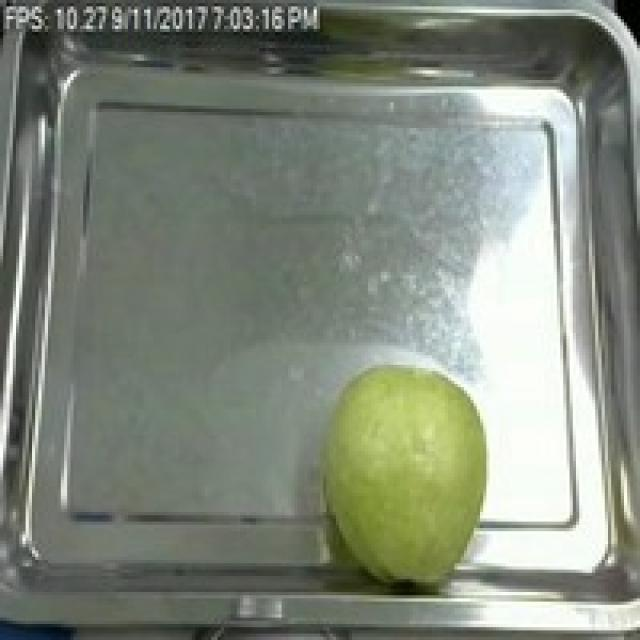Fruit: (298, 352, 506, 592)
